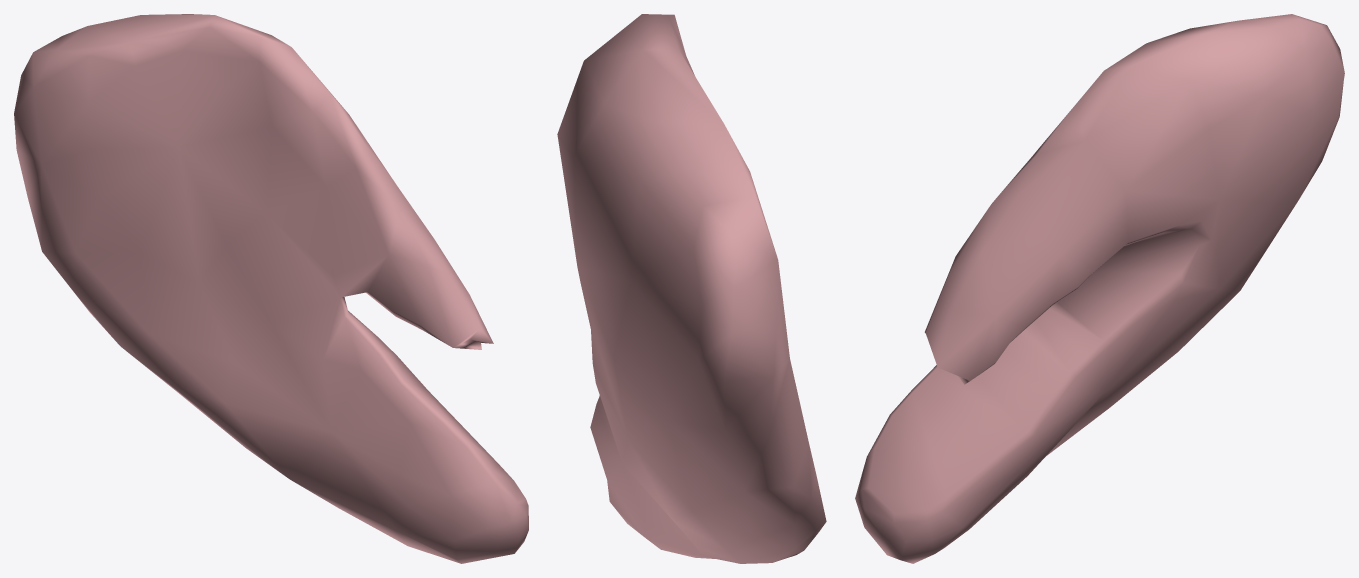
The picture shows the model from 3 angles, left to right: view 1: azimuth 30°, elevation 25°; view 2: azimuth 150°, elevation 25°; view 3: azimuth 270°, elevation 25°; orthographic projection. The views are drawn at different scales.
Visible parts, largest first — view 1: ZA_13783a9daa1dc385; view 2: ZA_13783a9daa1dc385; view 3: ZA_13783a9daa1dc385.
Part boxes in pixels (left/top/right/bottom): ZA_13783a9daa1dc385: left=14, top=14, right=528, bottom=563; ZA_13783a9daa1dc385: left=557, top=14, right=826, bottom=563; ZA_13783a9daa1dc385: left=855, top=14, right=1344, bottom=563.
Size of the model in its own units: 0.0157 by 0.0226 by 0.0217.
